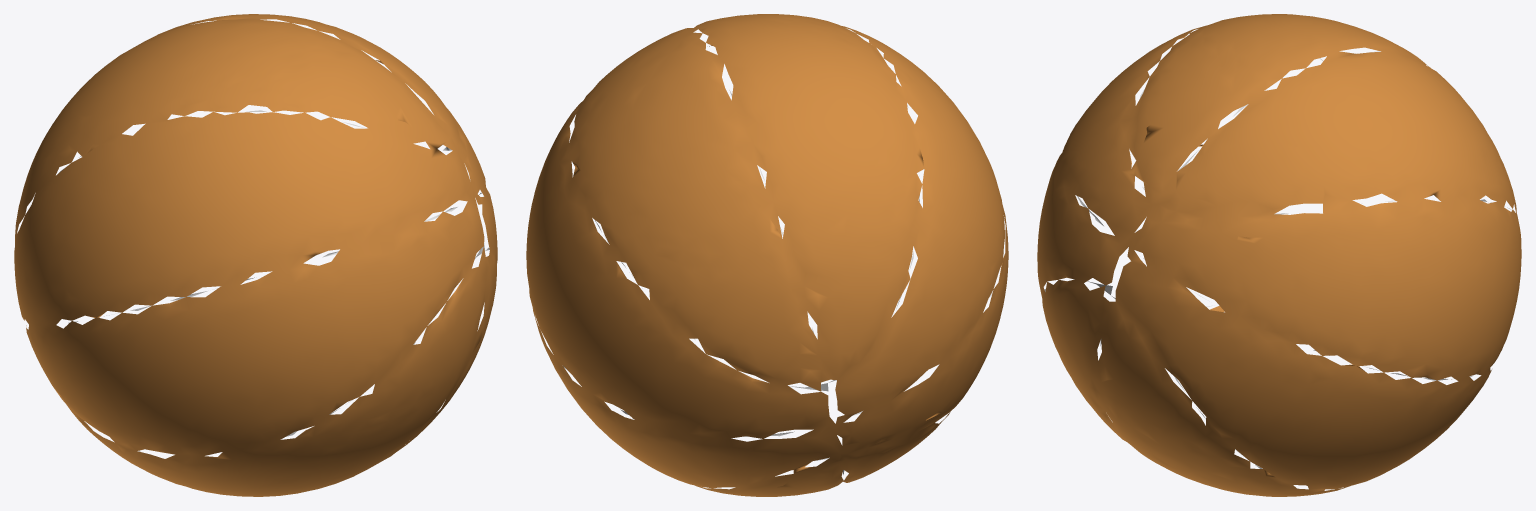
File: basketball_ball.glb
The picture shows the model from 3 angles, left to right: view 1: azimuth 30°, elevation 25°; view 2: azimuth 150°, elevation 25°; view 3: azimuth 270°, elevation 25°; orthographic projection.
Parts seen in each view (by area): view 1: world; view 2: world; view 3: world.
Part boxes in pixels (x1,y1,x2,y2): world: [14, 14, 497, 496]; world: [526, 14, 1008, 496]; world: [1037, 14, 1521, 496].
Size of the model in its own units: 1.99 by 1.98 by 1.99.
